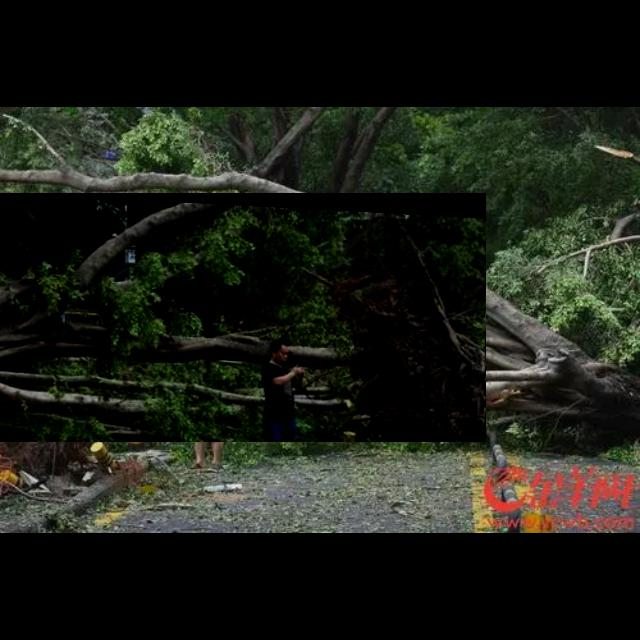Fallen Tree: (0, 193, 487, 443)
